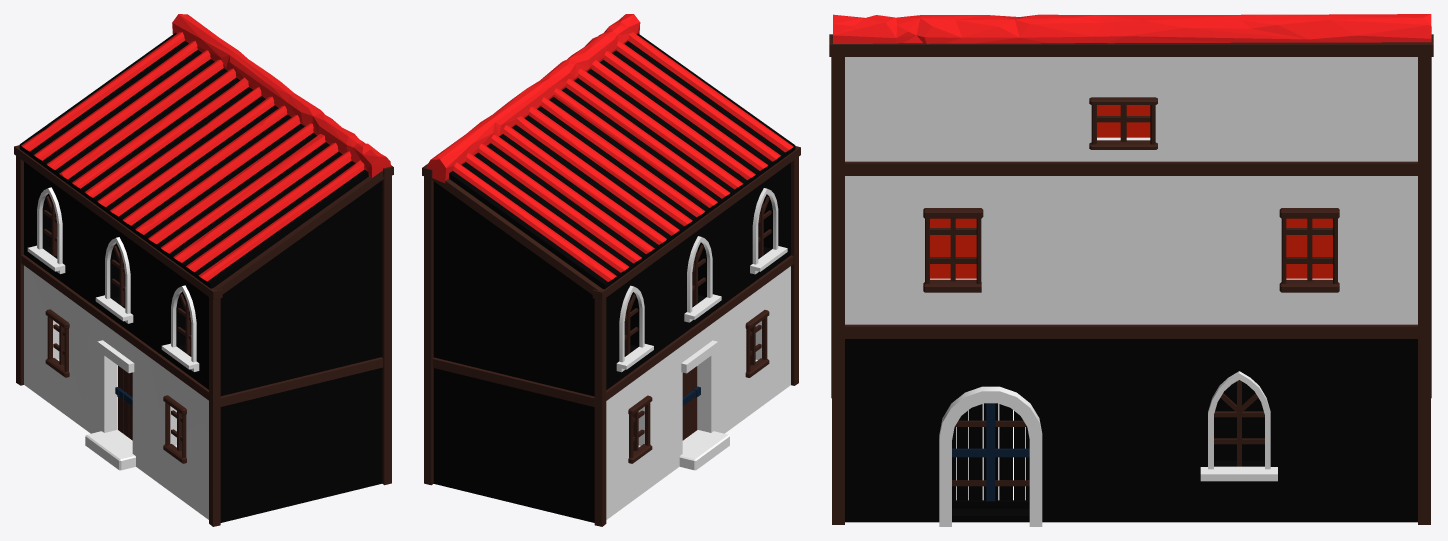
The model's file is civilian_house_41_b.FBX.
3 views of the same model, side by side, from view 1: azimuth 30°, elevation 25°; view 2: azimuth 150°, elevation 25°; view 3: azimuth 270°, elevation 25° (orthographic). The views are drawn at different scales.
Parts seen in each view (by area): view 1: civilian_house_41_b; view 2: civilian_house_41_b; view 3: civilian_house_41_b.
Boxes of the visible parts, x1=… form: civilian_house_41_b: x1=14, y1=14, x2=393, y2=526; civilian_house_41_b: x1=422, y1=14, x2=800, y2=526; civilian_house_41_b: x1=829, y1=14, x2=1433, y2=526.
Bounding box in the file's own units: 591 × 942 × 1031.
